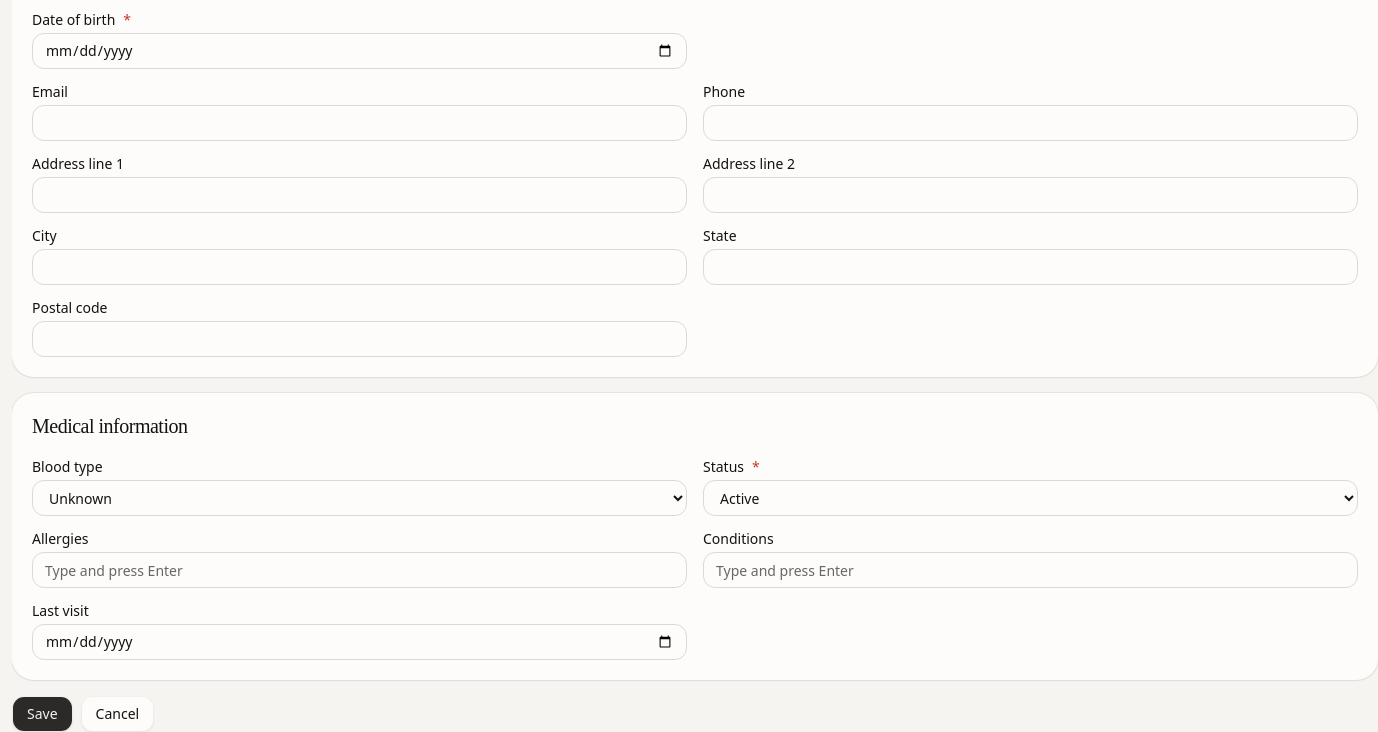
Test case: PatientForm (create) › submitting empty shows required messages, focuses the first field and sends nothing
(page scrolled)
Step 1. Click the button "Save" → (42, 714), box [12, 696, 73, 731]
(page scrolled)
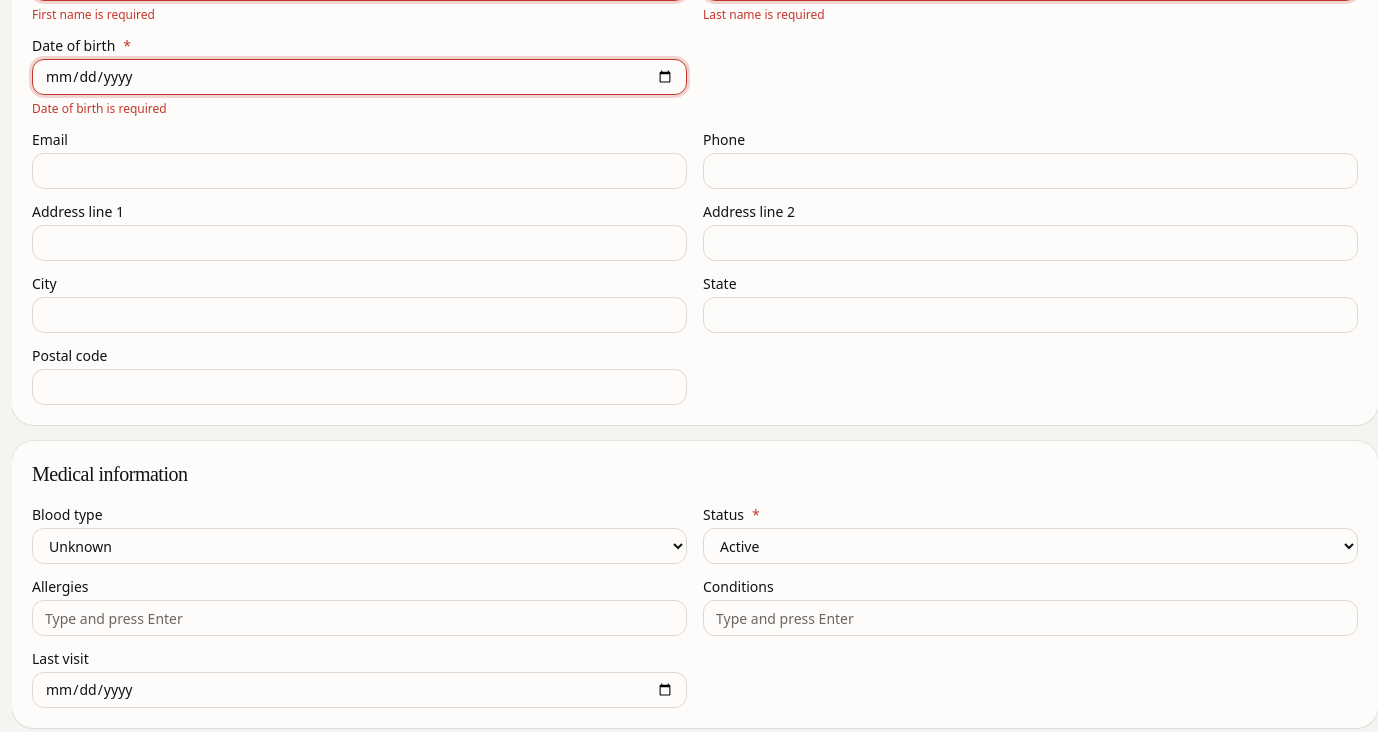
Result: the text "First name is required" is shown at [32, 6, 155, 22]
Result: the text "Last name is required" is shown at [703, 6, 825, 22]
Result: the text "Date of birth is required" is shown at [32, 100, 167, 116]
